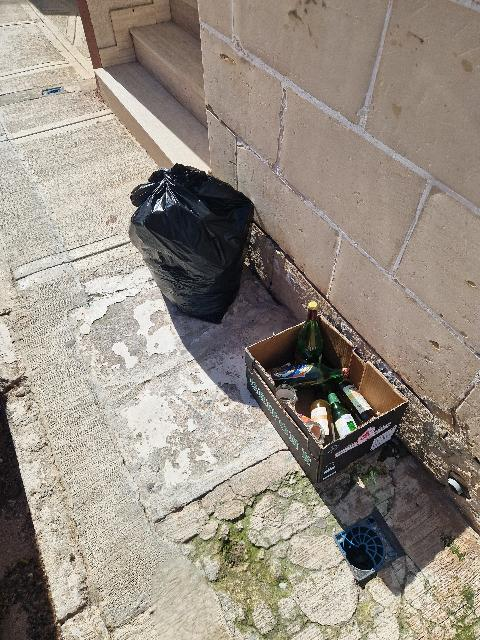Mixed -Black-: (129, 163, 254, 323)
Other: (245, 301, 407, 483)
